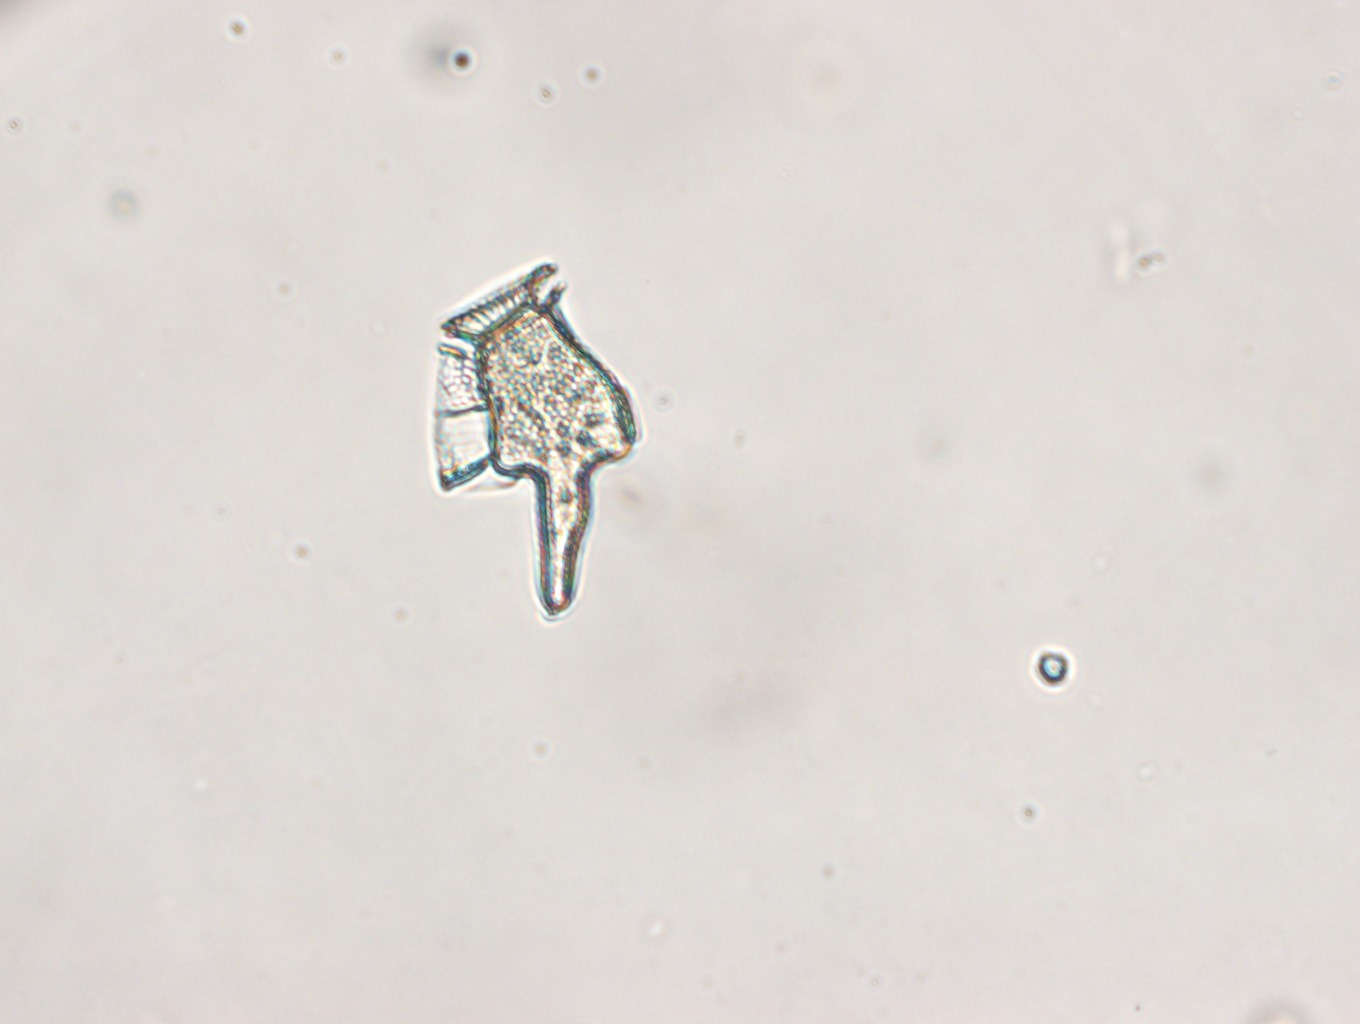dinophysis caudata: (431, 264, 640, 625)
